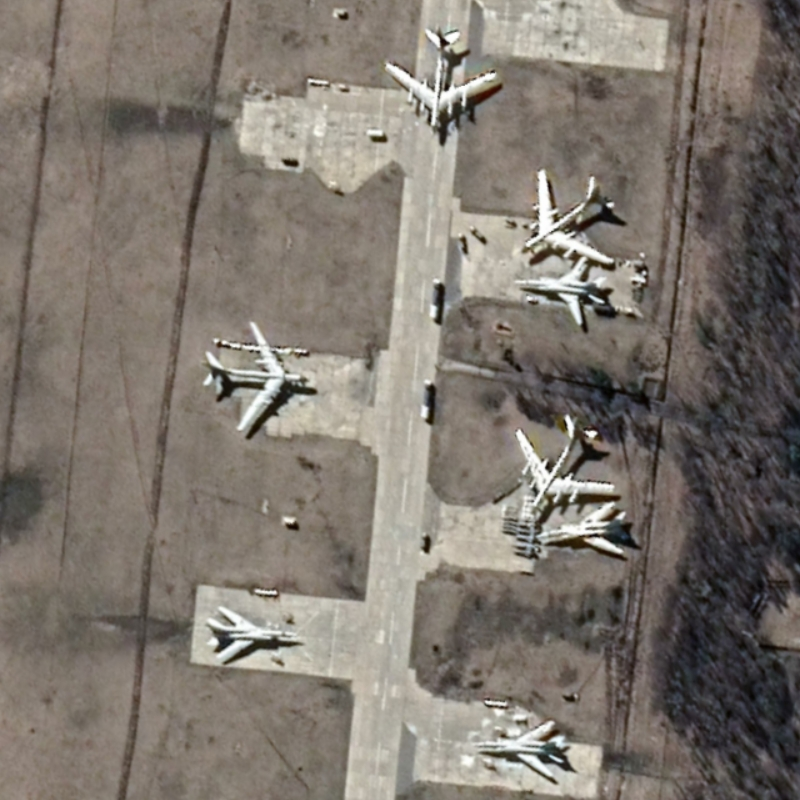A12: (512, 254, 607, 327), (472, 719, 567, 779), (204, 604, 299, 664), (533, 499, 631, 556)
A17: (382, 26, 499, 137), (200, 319, 312, 434), (512, 412, 617, 517), (519, 166, 617, 269)
